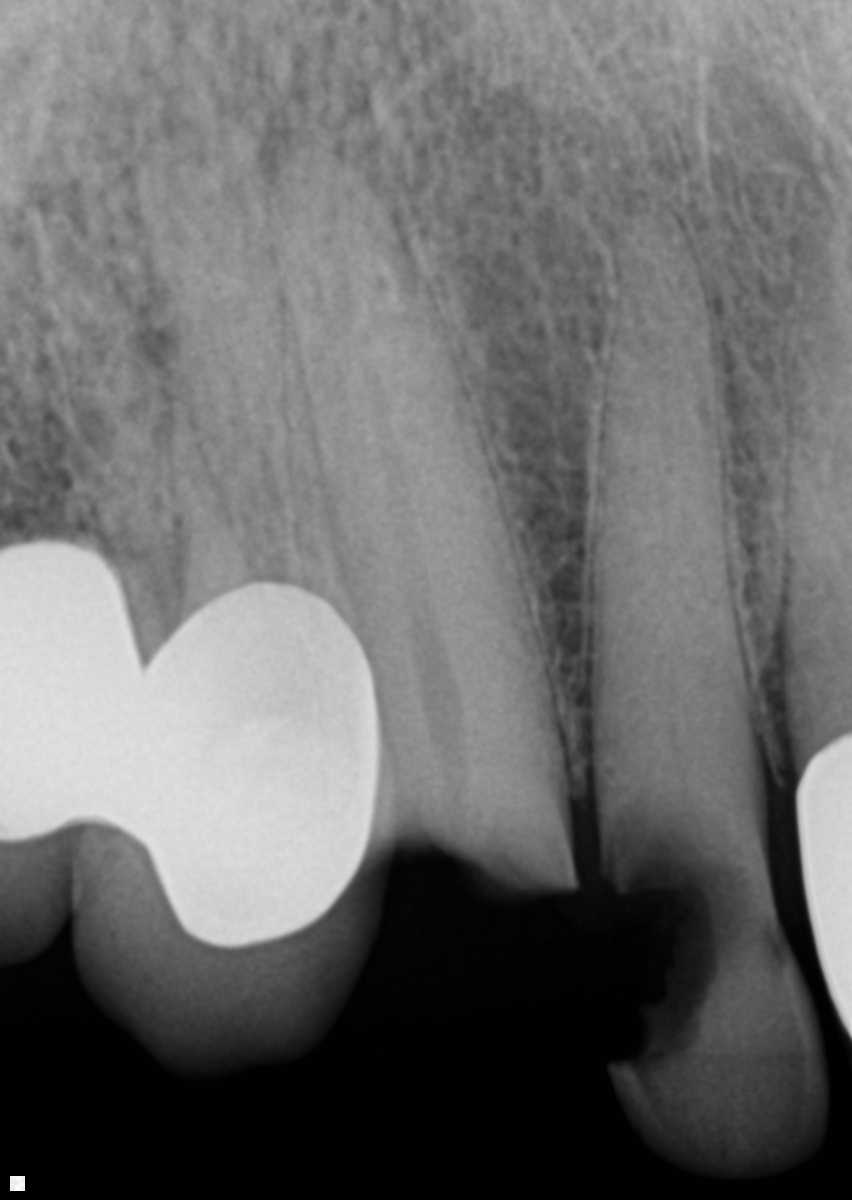Apical Lesion: (259, 35, 378, 176)
Main Canal: (311, 221, 469, 759)
Main Root: (270, 137, 569, 788), (0, 205, 258, 647), (589, 198, 768, 823), (132, 132, 354, 631), (776, 179, 852, 772)
decay: (606, 810, 752, 1069)
